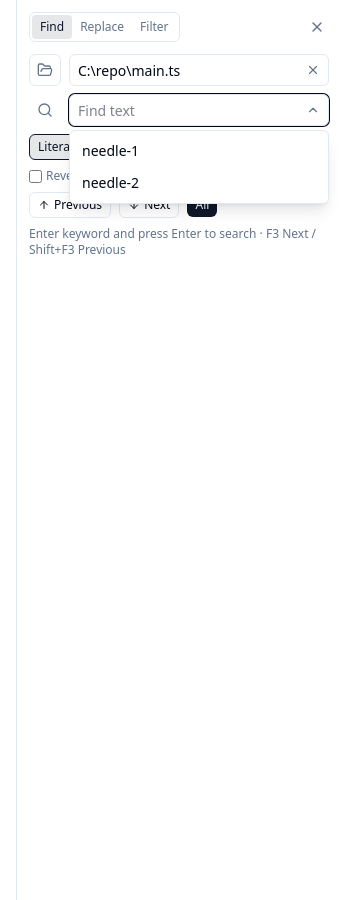
Test case: SearchReplacePanel › replaces the search input with a recent find-history entry
This screenshot has width=347, height=900.
Type "needle" into the field with placeholder "Find text" at [199, 110], box [69,94,329,126]
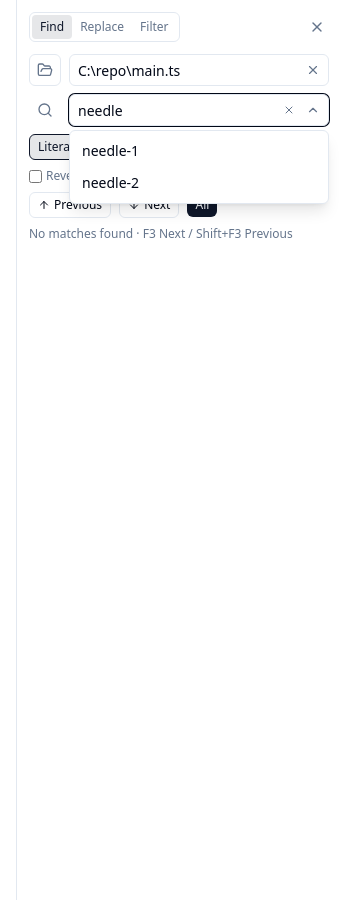
Click the option "needle-2" at [199, 183], box [74,167,324,199]
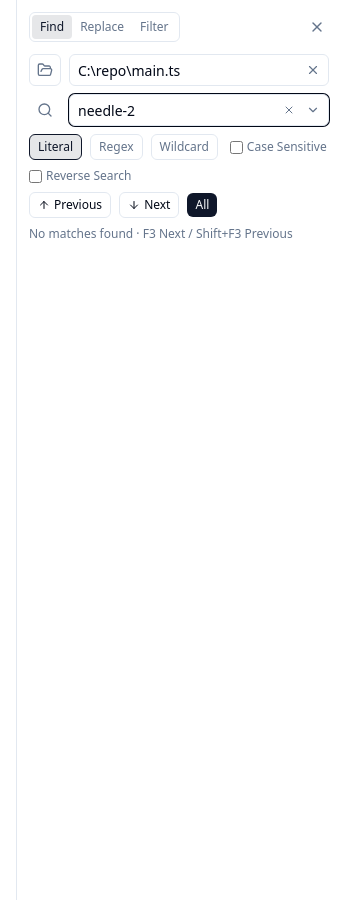
Result: the field with placeholder "Find text" holds "needle-2" at [69,94,329,126]
